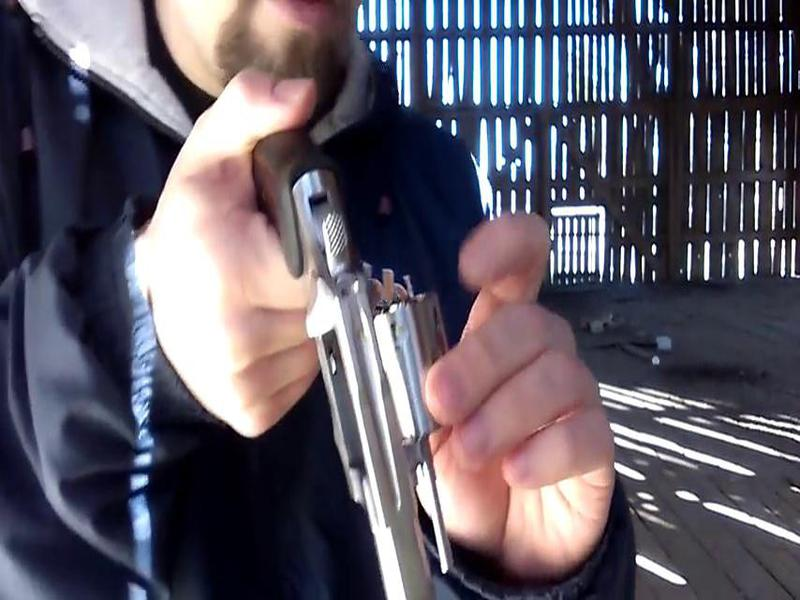Revolver: (237, 105, 503, 600)
